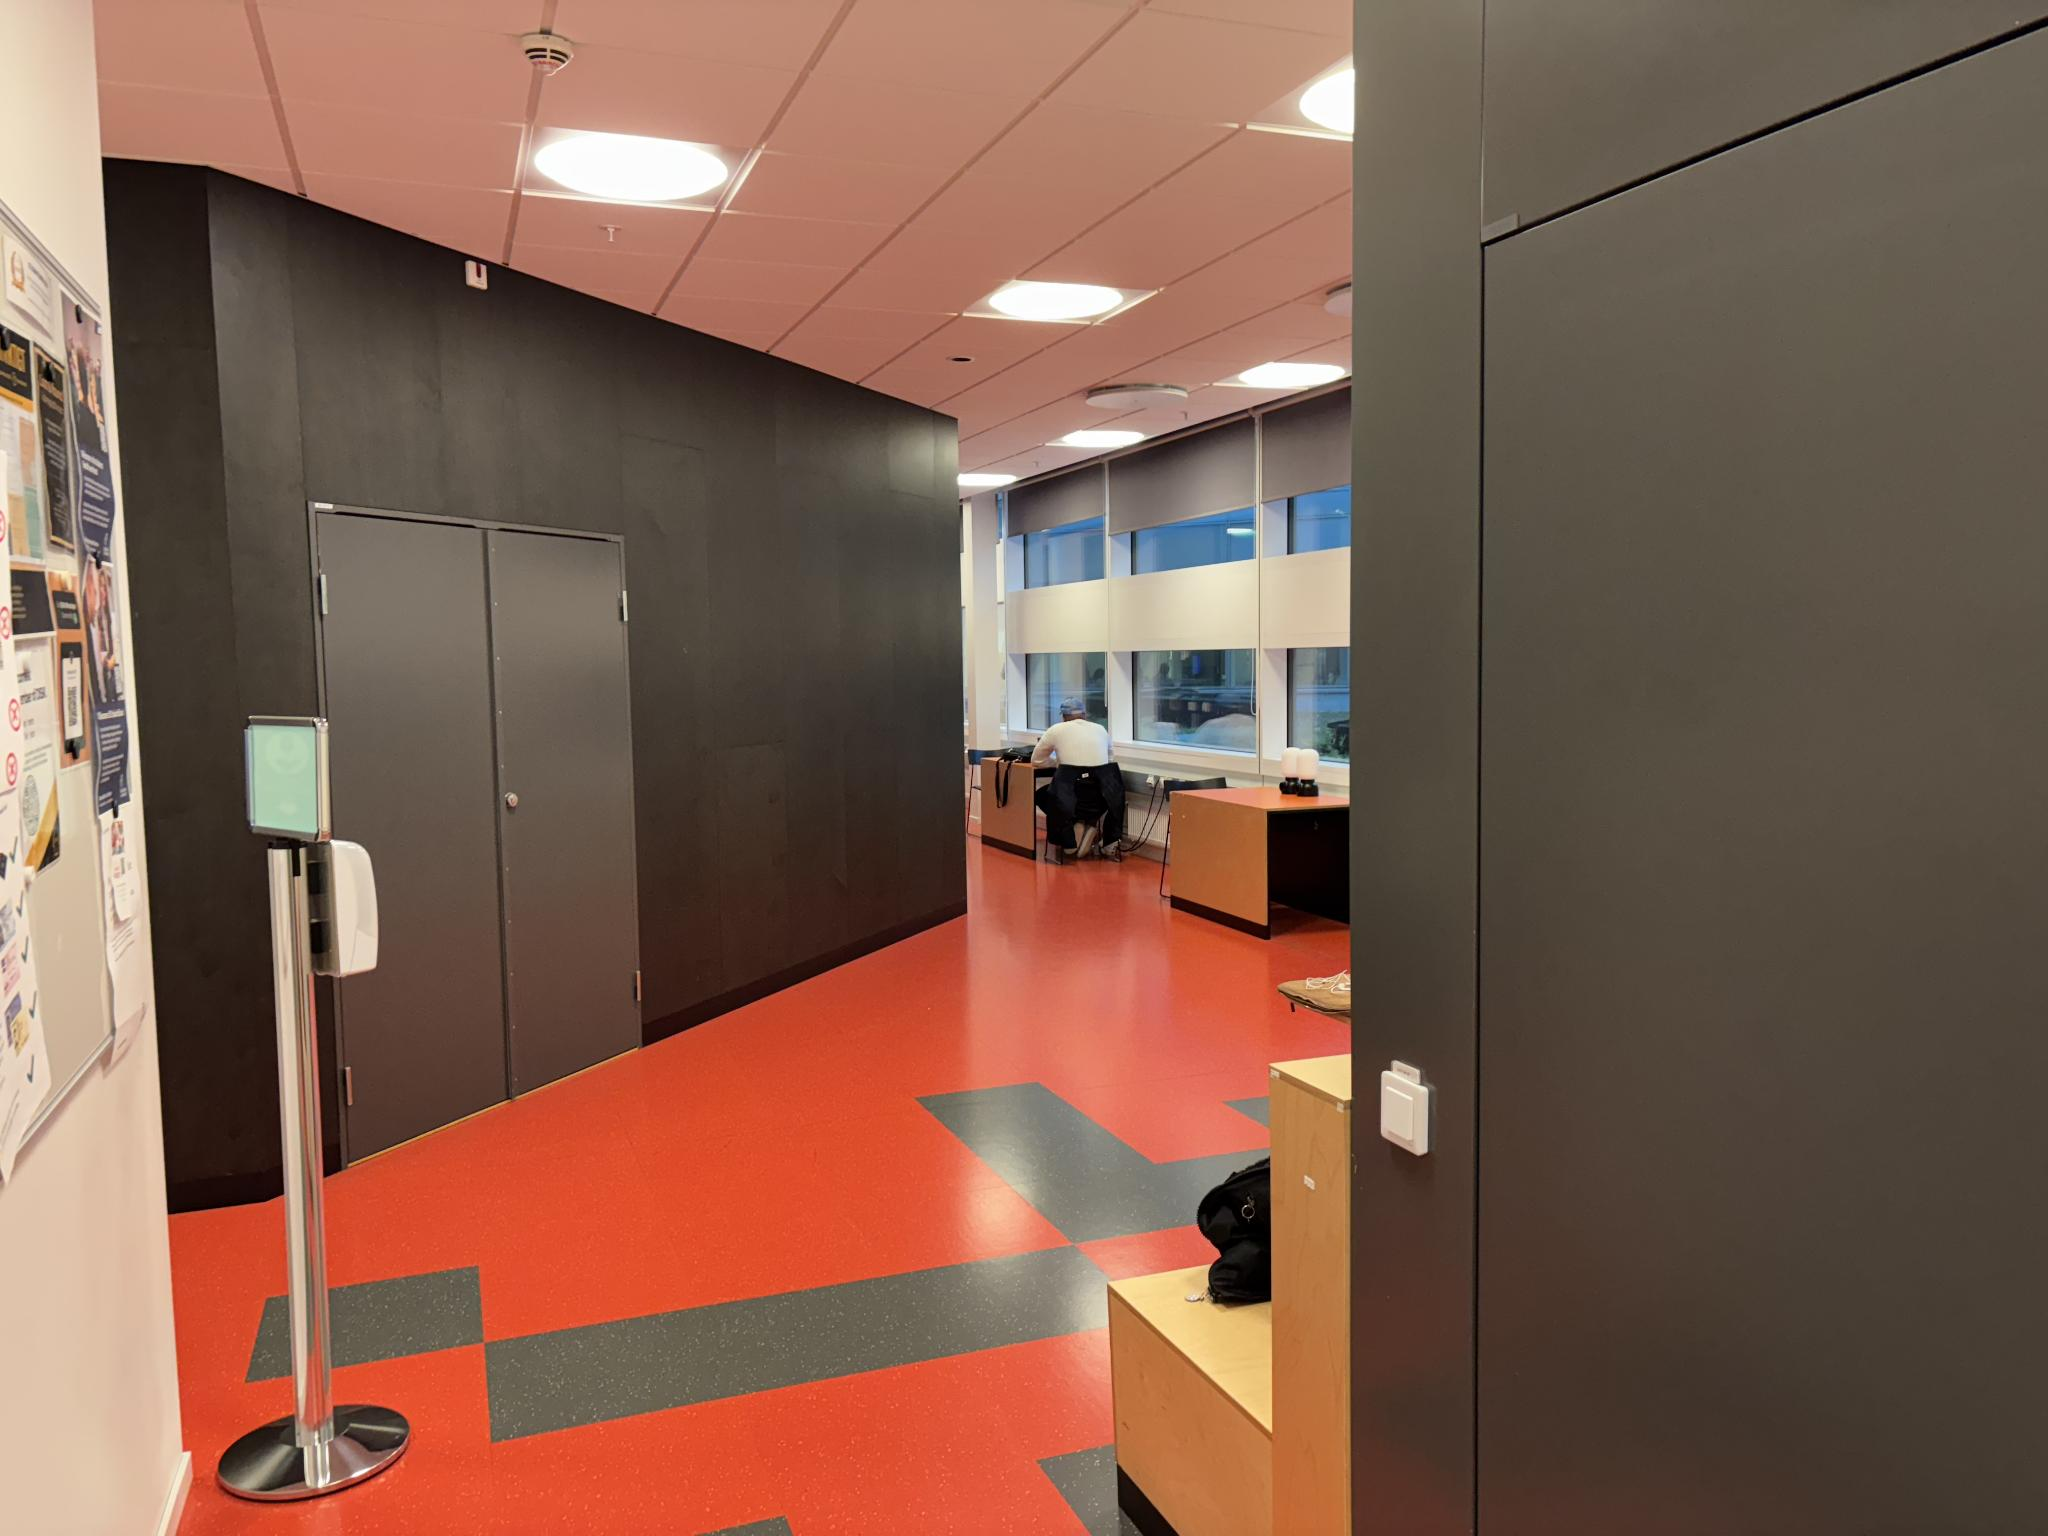person: (1046, 704, 1110, 831)
